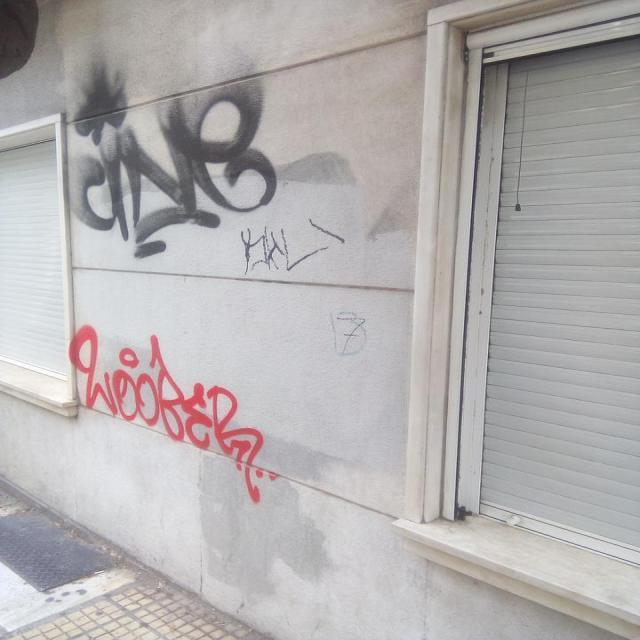nonspitting: (70, 69, 278, 261), (70, 324, 278, 503), (239, 220, 347, 275), (332, 310, 368, 360)
